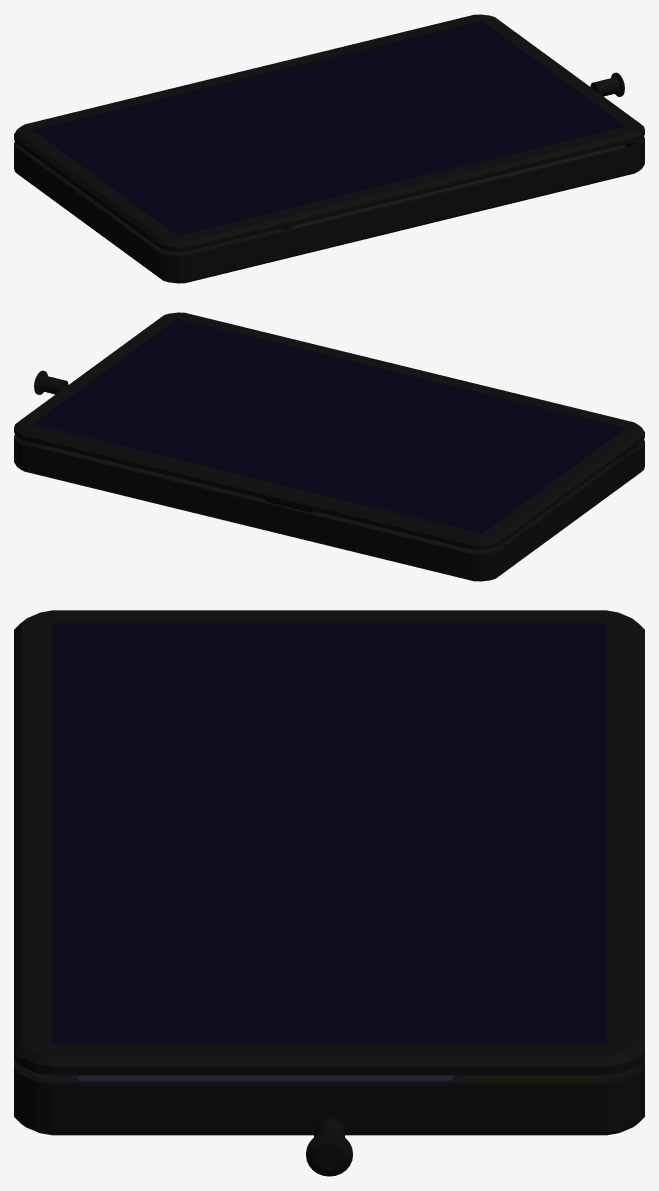
File: Phone.fbx
3 views of the same model, one above another, from view 1: azimuth 30°, elevation 25°; view 2: azimuth 150°, elevation 25°; view 3: azimuth 270°, elevation 25° (orthographic). The views are drawn at different scales.
Visible parts, largest first — view 1: screen, Lower Frame, Battery, Logic Board, Screw; view 2: screen, Lower Frame, Logic Board, Screw; view 3: screen, Lower Frame, Battery, Screw, Logic Board.
Boxes of the visible parts, left/top/right/bottom form: screen: left=14, top=14, right=644, bottom=252; Lower Frame: left=14, top=136, right=644, bottom=283; Battery: left=282, top=145, right=625, bottom=230; Logic Board: left=37, top=159, right=281, bottom=254; Screw: left=590, top=72, right=624, bottom=96; screen: left=14, top=312, right=644, bottom=550; Lower Frame: left=14, top=434, right=644, bottom=581; Logic Board: left=44, top=446, right=621, bottom=552; Screw: left=34, top=370, right=68, bottom=394; screen: left=14, top=610, right=644, bottom=1075; Lower Frame: left=14, top=1060, right=644, bottom=1135; Battery: left=72, top=1075, right=452, bottom=1080; Screw: left=306, top=1118, right=352, bottom=1176; Logic Board: left=466, top=1075, right=602, bottom=1080.
Size of the model in its own units: 1015 by 74.81 by 543.
